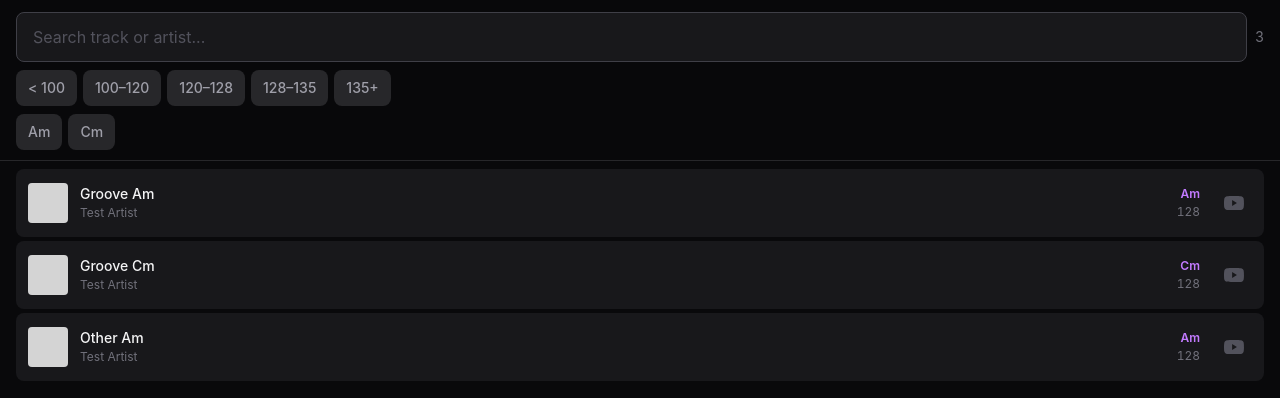
Scenario: App — combined filters › search and key filter applied together
The width and height of the screenshot is (1280, 398).
Step 1. Type "groove" into the field with placeholder "Search track or artist..." → (631, 37), box [16,12,1247,62]
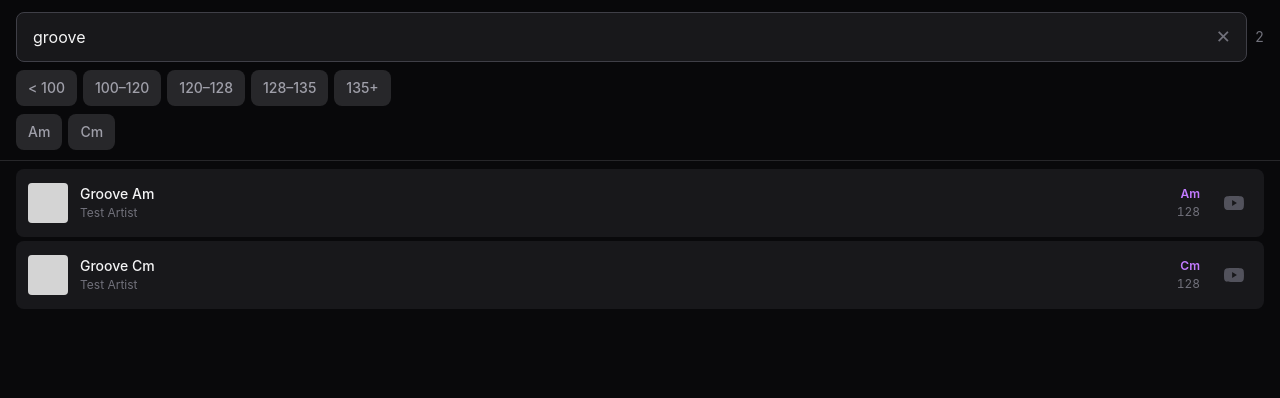
Step 2. Click the button "Am" → click(39, 132), box [16,114,62,150]
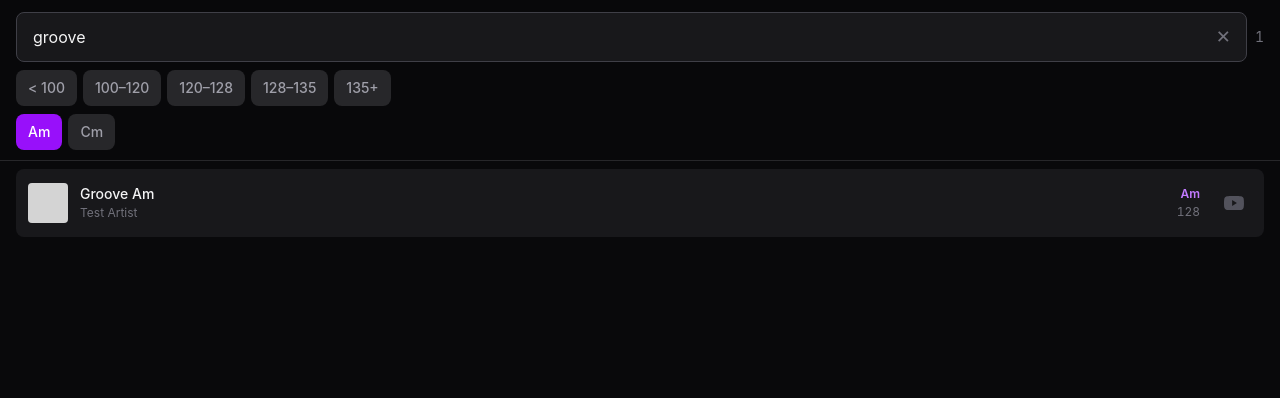
Check: the number of "TrackCard" components is 1, box [16,169,1264,237]
